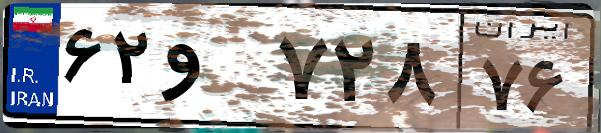2: (330, 28, 385, 110), (110, 28, 158, 98)
6: (57, 26, 110, 100), (525, 38, 570, 115)
7: (270, 28, 330, 110), (475, 38, 525, 113)
8: (385, 28, 445, 110)
و: (158, 20, 270, 120)
